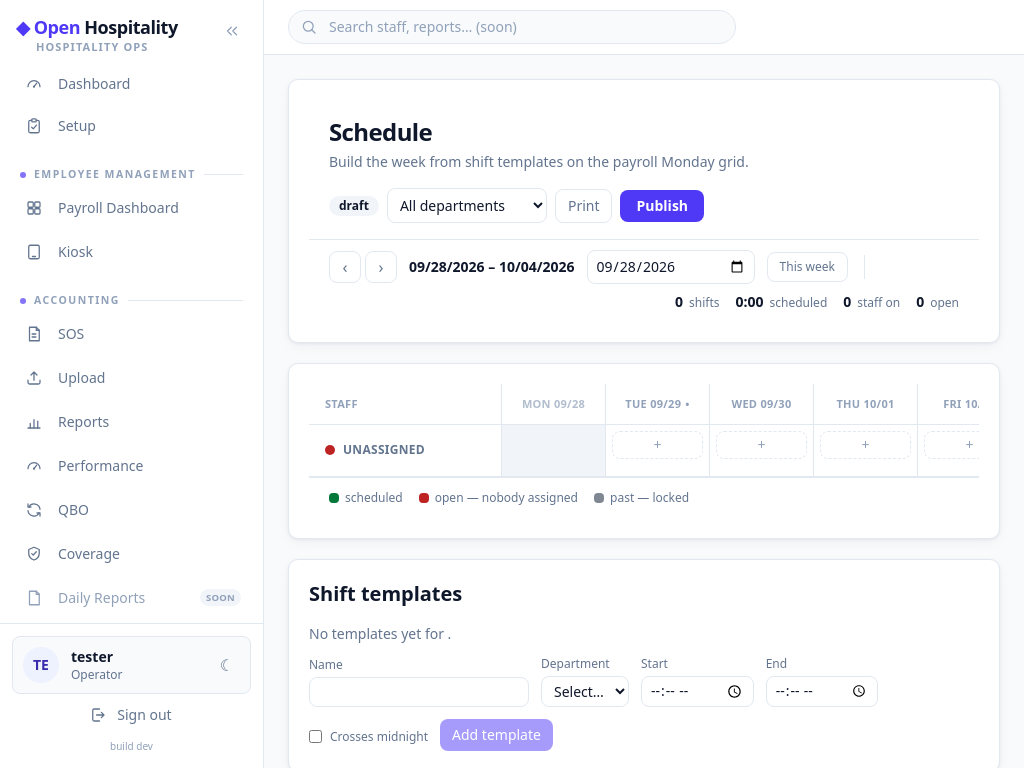
it: SchedulePage › renders a conflict 422 detail verbatim
The image size is (1024, 768).
Expected: the element named "week grid" is shown, [288, 363, 1000, 539]
Click the button named "Add shift for" at (658, 445), box [612, 431, 703, 459]
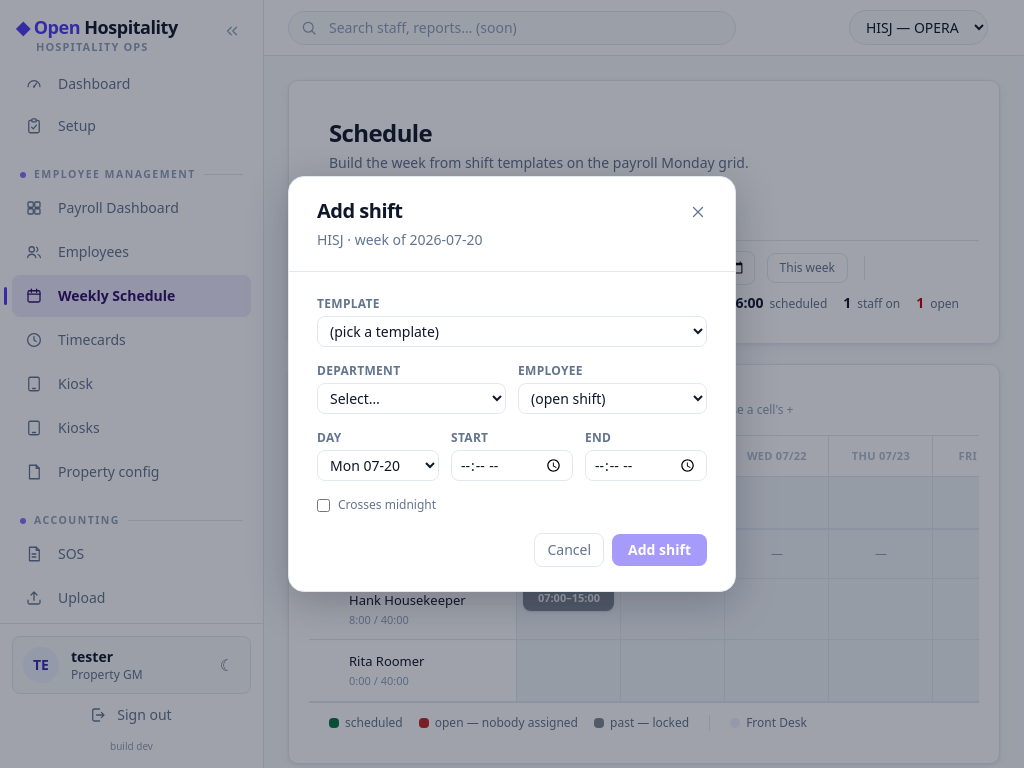
Select "Front Desk AM · 07:00–15:00" in the dropdown named "Shift template" at (512, 332), box [317, 316, 707, 347]
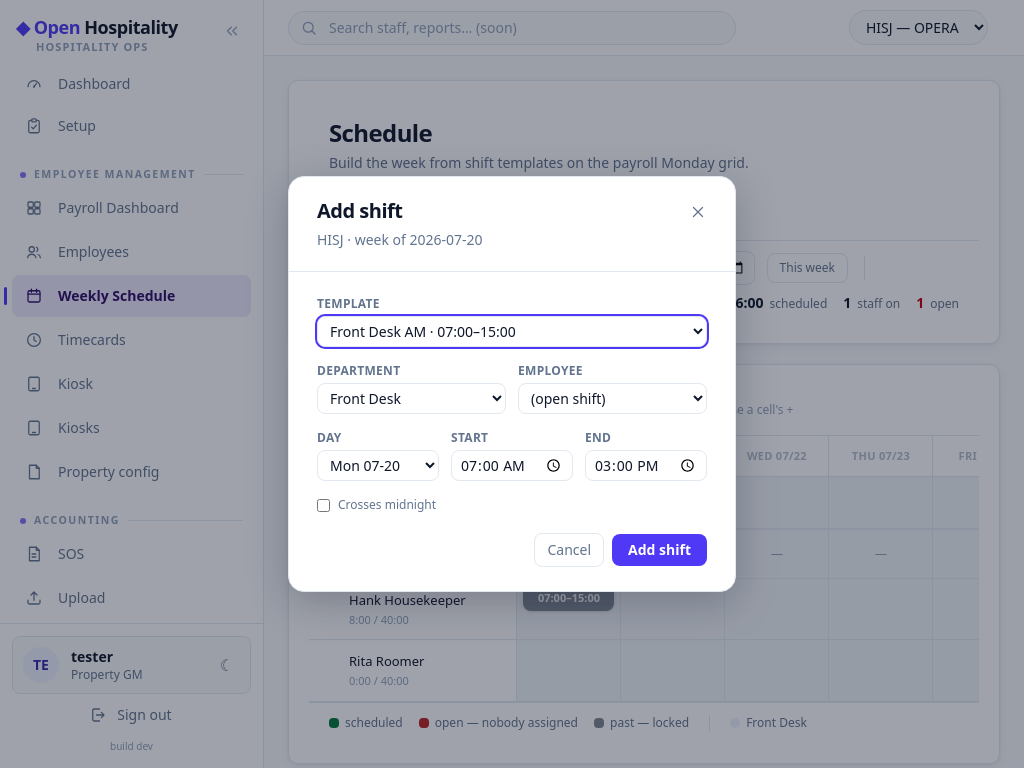
Click the button "Add shift" at (660, 550), box [612, 534, 707, 566]
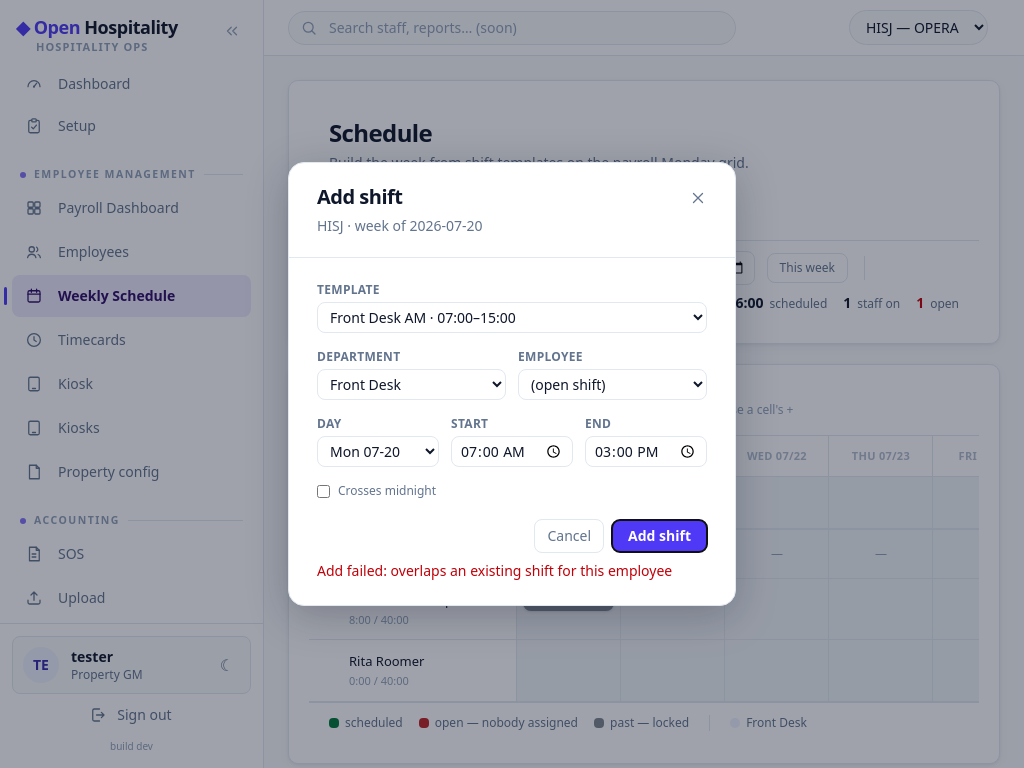
Expected: the message shows "overlaps an existing shift for this employee", [391, 561, 672, 580]
